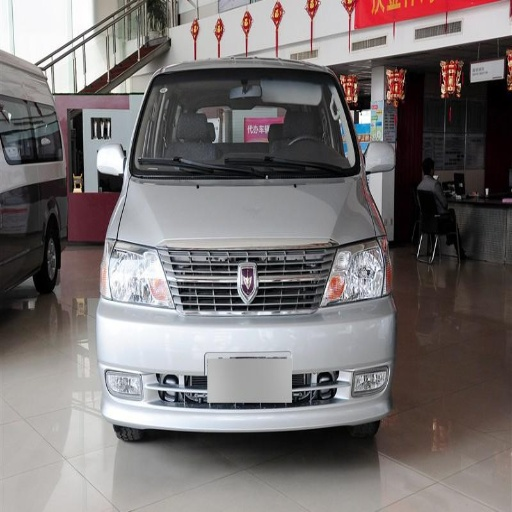front_bumper: (99, 246, 396, 431)
front_right_light: (102, 240, 174, 309)
hood: (122, 177, 376, 310)
